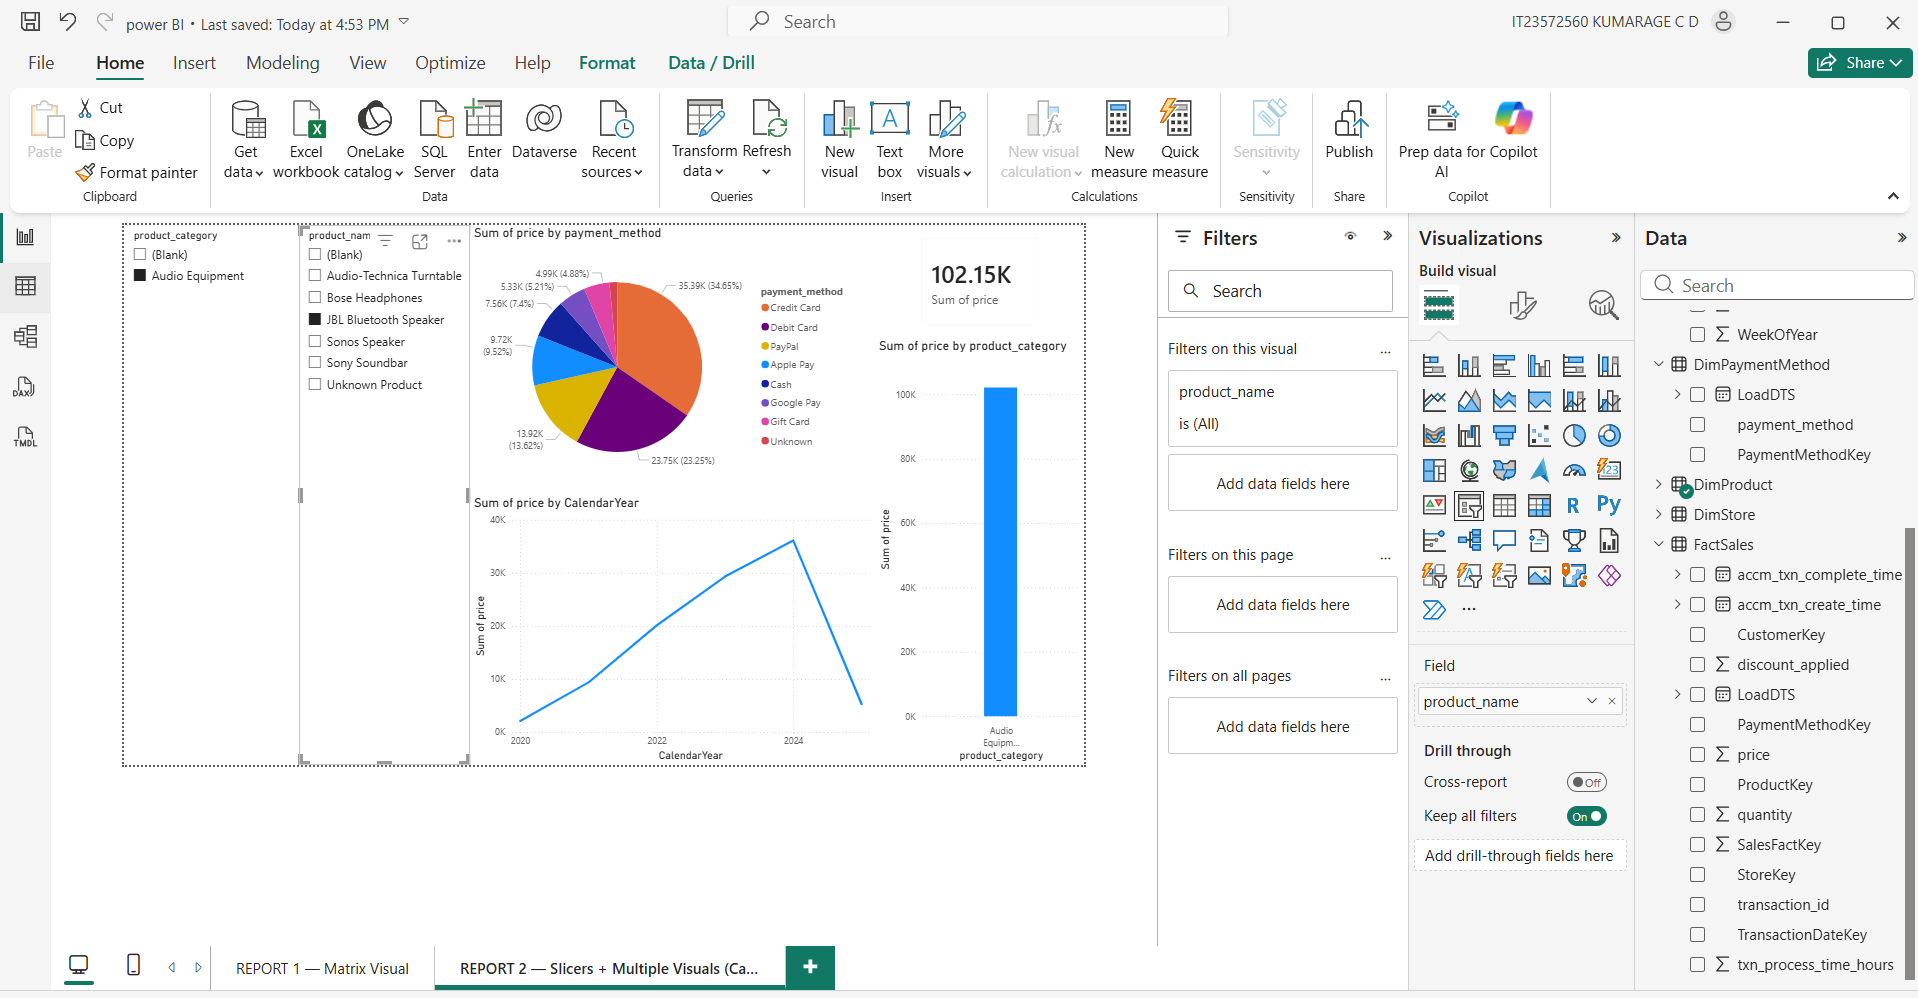

The dashboard page shown, as its layout file describes it:
{"tool":"powerbi","page":{"name":"REPORT 2 — Slicers + Multiple Visuals (Cascading)","canvas":[1280,720],"ordinal":1},"visuals":[{"type":"slicer","fields":{"Values":["DimProduct.product_category"]},"box":[0,0,233.3,340],"z":0},{"type":"slicer","fields":{"Values":["DimProduct.product_name"]},"box":[0,360,228.3,360],"z":1000},{"type":"lineClusteredColumnComboChart","fields":{"Category":["DimProduct.product_category"],"Y":["Sum(FactSales.price)"]},"box":[1001.7,150,278.3,570],"z":2000},{"type":"lineChart","fields":{"Y":["Sum(FactSales.price)"],"Category":["DimDate.CalendarYear"]},"box":[245,373.3,756.7,346.7],"z":3000},{"type":"pieChart","fields":{"Category":["DimPaymentMethod.payment_method"],"Y":["Sum(FactSales.price)"]},"box":[228.3,0,773.3,373.3],"z":4000},{"type":"cardVisual","fields":{"Data":["Sum(FactSales.price)"]},"box":[1046.7,0,190,150],"z":5000}]}

Visuals, with their boxes on the page's 1280x720 design canvas (x1, y1, x2, y2). These are canvas units, not pixel positions in the 1918x998 screenshot, which may show the page scaled, cropped or inside an application window:
slicer - DimProduct.product_category: <bbox>0, 0, 233, 340</bbox>
slicer - DimProduct.product_name: <bbox>0, 360, 228, 720</bbox>
lineClusteredColumnComboChart - DimProduct.product_category x Sum(FactSales.price): <bbox>1002, 150, 1280, 720</bbox>
lineChart - Sum(FactSales.price) x DimDate.CalendarYear: <bbox>245, 373, 1002, 720</bbox>
pieChart - DimPaymentMethod.payment_method x Sum(FactSales.price): <bbox>228, 0, 1002, 373</bbox>
cardVisual - Sum(FactSales.price): <bbox>1047, 0, 1237, 150</bbox>
